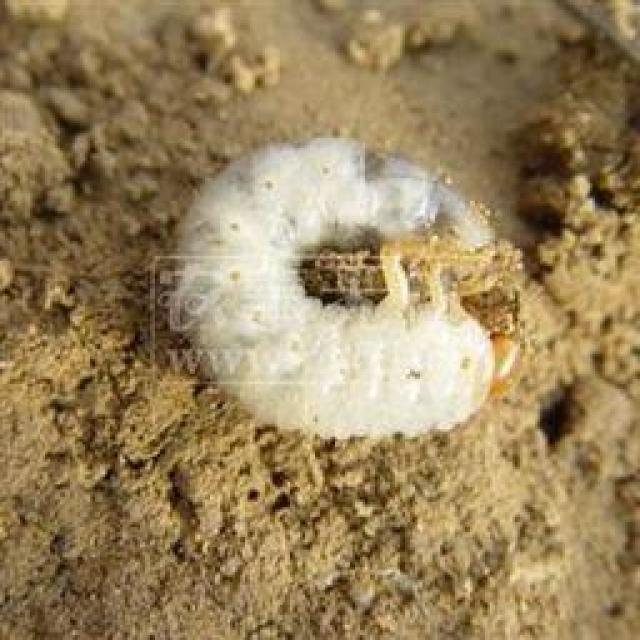Grub-Adult-: (155, 134, 531, 450)
